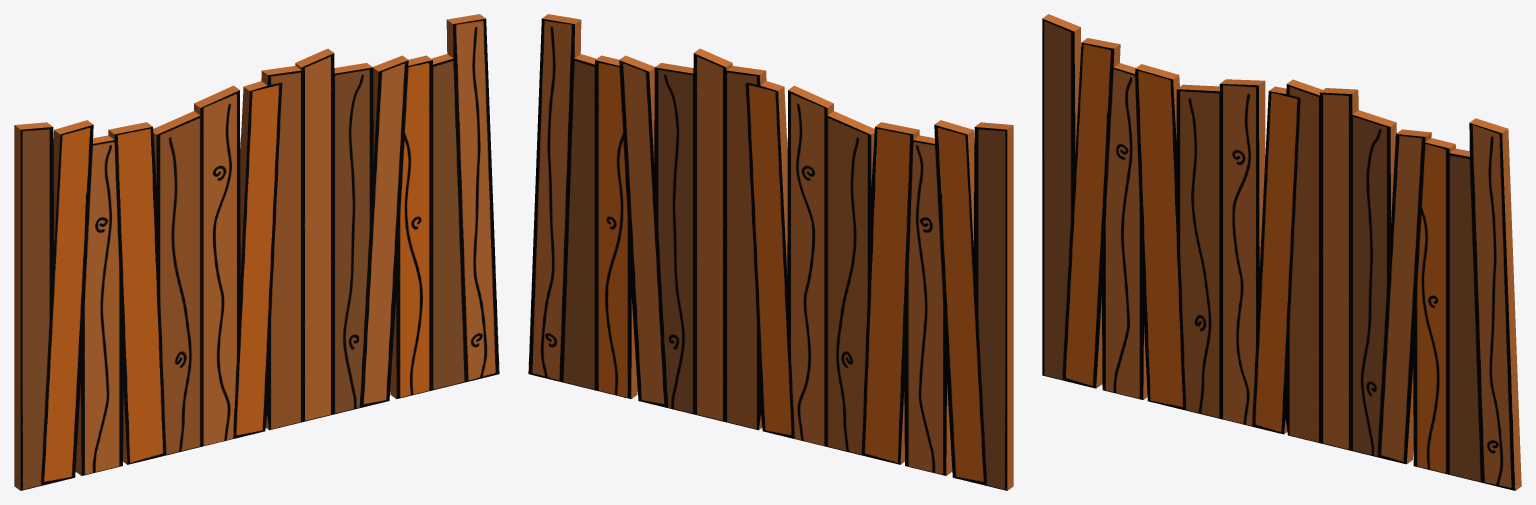
File: Fence_.fbx
The picture shows the model from 3 angles, left to right: view 1: azimuth 30°, elevation 25°; view 2: azimuth 150°, elevation 25°; view 3: azimuth 330°, elevation 25°; orthographic projection.
Visible parts, largest first — view 1: fence; view 2: fence; view 3: fence.
Part boxes in pixels (x1,y1,x2,y2): fence: (14,14,499,490); fence: (528,14,1013,490); fence: (1042,14,1521,490).
Size of the model in its own units: 2.77 by 2 by 0.0633.
